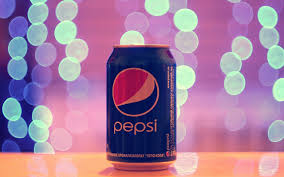pepsi: (112, 68, 159, 116), (114, 121, 162, 136)
